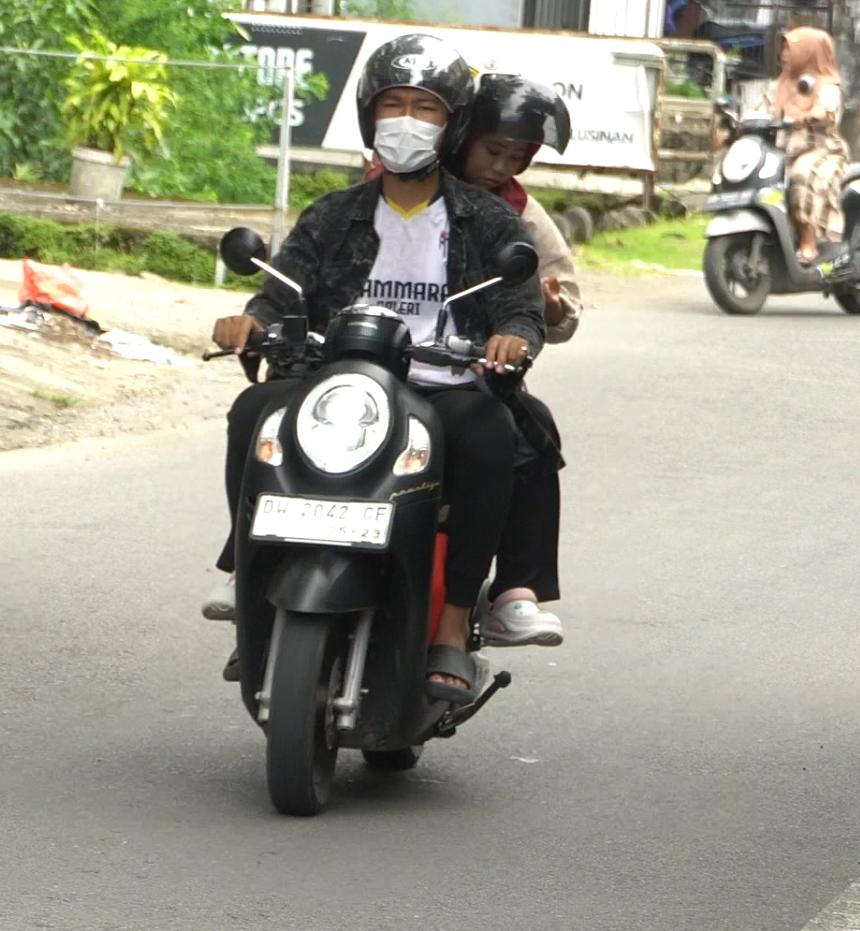number-plate: (246, 491, 395, 548)
